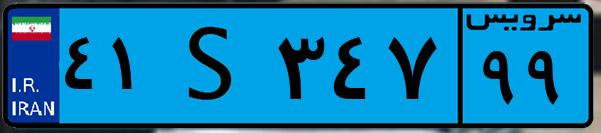1: (110, 28, 158, 98)
3: (270, 28, 330, 110)
4: (330, 28, 385, 110), (57, 26, 110, 100)
7: (385, 28, 445, 110)
9: (475, 38, 525, 113), (525, 38, 570, 115)
S: (158, 12, 270, 120)
